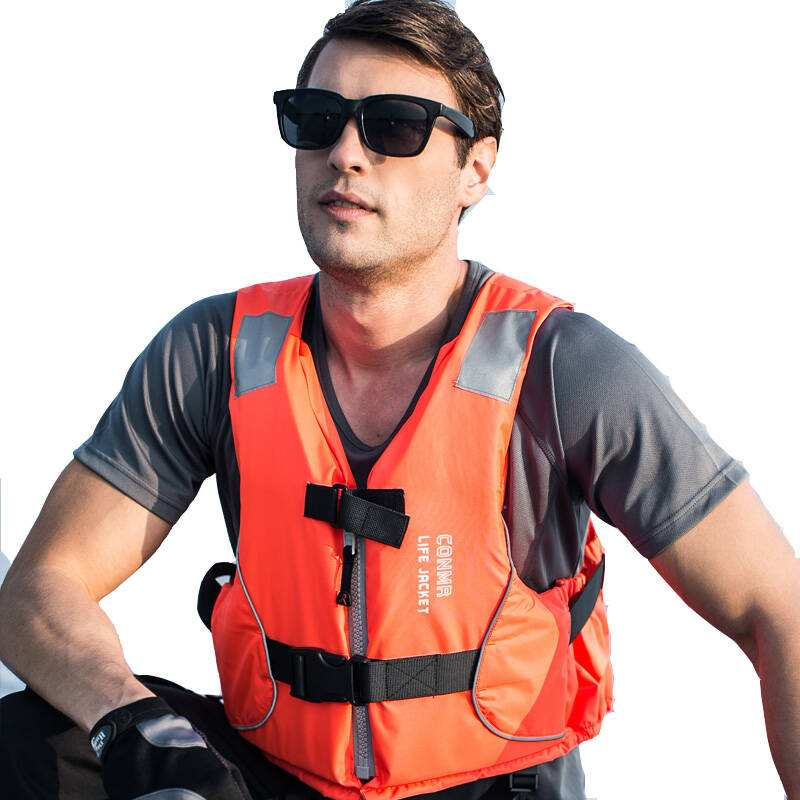reflective_clothes: (165, 233, 629, 797)
